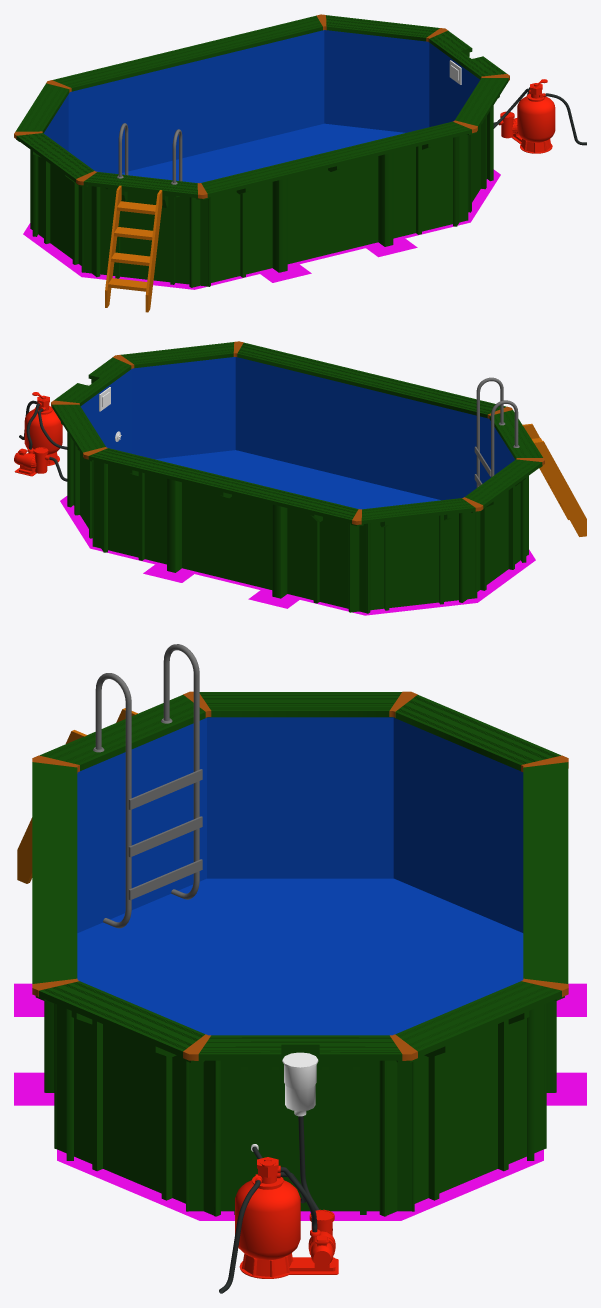
Rendered from montana.fbx.
3 views of the same model, one above another, from view 1: azimuth 30°, elevation 25°; view 2: azimuth 150°, elevation 25°; view 3: azimuth 270°, elevation 25° (orthographic). The views are drawn at different scales.
Visible parts, largest first — view 1: Object143, Box068, Shape002, Box097, Cylinder025, 150, Rectangle018, Line028; view 2: Object143, Box068, Shape002, Cylinder025, Box097, Rectangle018, 150, Line028; view 3: Box068, Object143, Shape002, Cylinder025, Rectangle018, 150, Object386, Line028, Box097.
Boxes of the visible parts, x1=… form: Object143: x1=15, y1=15, x2=508, y2=287; Box068: x1=44, y1=30, x2=479, y2=183; Shape002: x1=23, y1=169, x2=500, y2=289; Box097: x1=105, y1=185, x2=162, y2=312; Cylinder025: x1=498, y1=79, x2=555, y2=153; 150: x1=14, y1=14, x2=509, y2=198; Rectangle018: x1=117, y1=123, x2=182, y2=184; Line028: x1=493, y1=87, x2=586, y2=145; Object143: x1=52, y1=342, x2=542, y2=613; Box068: x1=80, y1=357, x2=515, y2=509; Shape002: x1=60, y1=496, x2=535, y2=615; Cylinder025: x1=14, y1=392, x2=62, y2=476; Box097: x1=522, y1=423, x2=586, y2=536; Rectangle018: x1=474, y1=377, x2=519, y2=487; 150: x1=51, y1=341, x2=544, y2=524; Line028: x1=19, y1=400, x2=67, y2=481; Box068: x1=77, y1=717, x2=523, y2=1035; Object143: x1=32, y1=692, x2=568, y2=1216; Shape002: x1=14, y1=983, x2=586, y2=1220; Cylinder025: x1=235, y1=1157, x2=338, y2=1278; Rectangle018: x1=93, y1=644, x2=202, y2=928; 150: x1=32, y1=691, x2=568, y2=1060; Object386: x1=282, y1=1052, x2=318, y2=1116; Line028: x1=219, y1=1116, x2=332, y2=1293; Box097: x1=17, y1=708, x2=137, y2=883.
Bounding box in the file's own units: 686 × 184 × 376.
